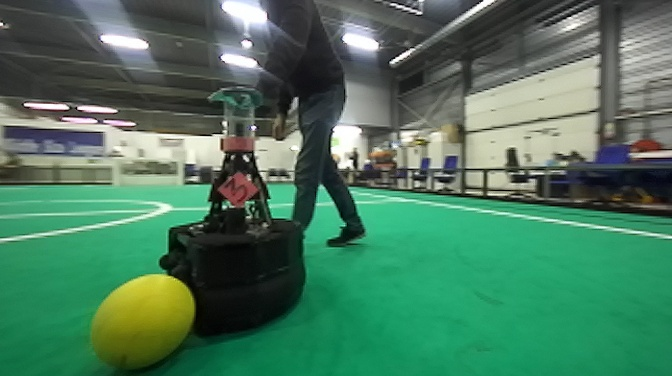ball: (82, 266, 201, 376)
goal: (110, 157, 185, 190)
goalpost: (110, 156, 121, 189), (176, 156, 184, 188)
human: (223, 1, 371, 260)
robot: (153, 82, 313, 347)
